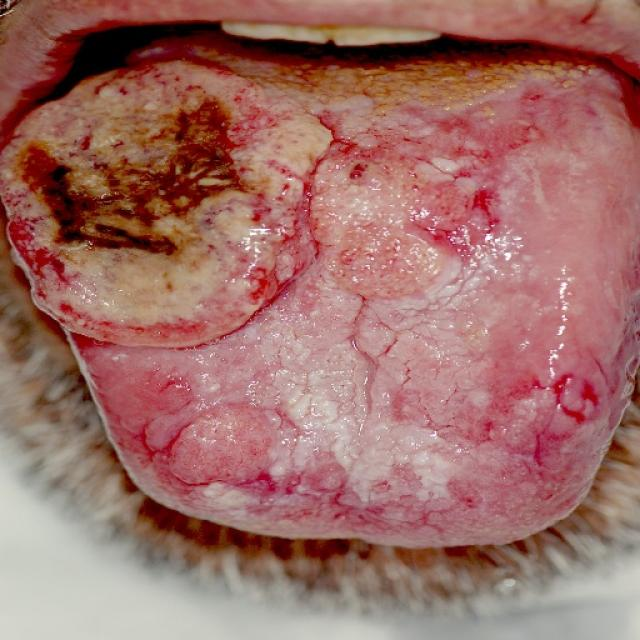cancer-detection: (0, 56, 480, 348)
processing_area: (0, 40, 639, 545)
